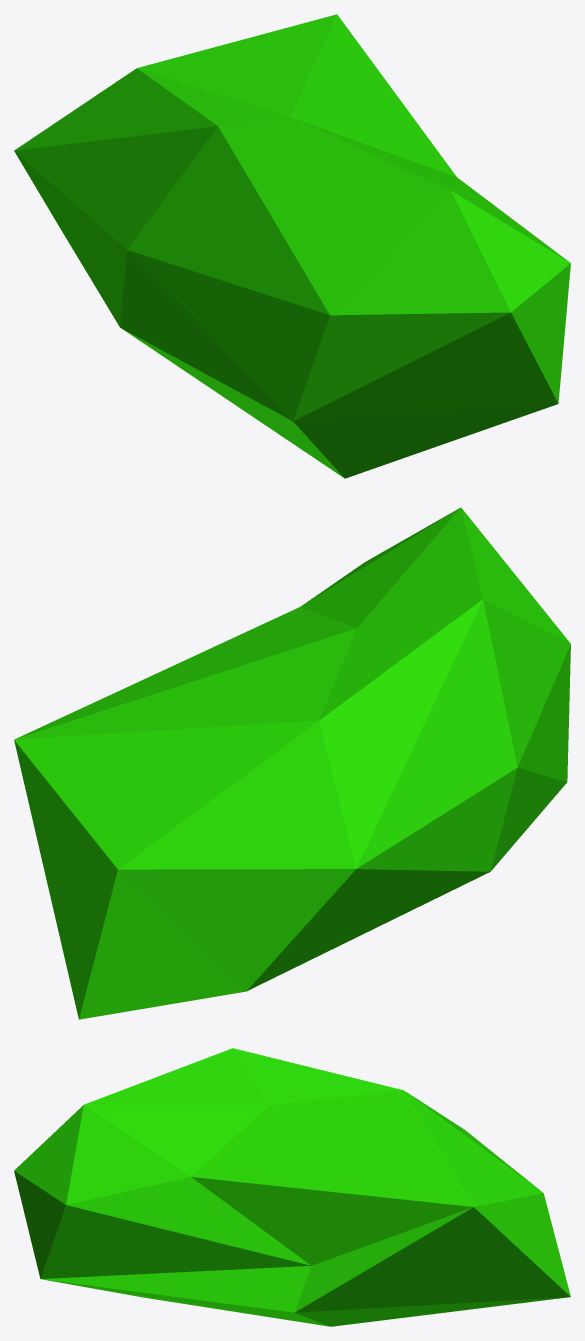
Rendered from Bush#1.fbx.
3 views of the same model, one above another, from view 1: azimuth 30°, elevation 25°; view 2: azimuth 150°, elevation 25°; view 3: azimuth 270°, elevation 25° (orthographic). The views are drawn at different scales.
Parts seen in each view (by area): view 1: Bush#1; view 2: Bush#1; view 3: Bush#1.
Boxes of the visible parts, x1=… form: Bush#1: x1=14, y1=14, x2=570, y2=478; Bush#1: x1=14, y1=507, x2=570, y2=1019; Bush#1: x1=14, y1=1048, x2=570, y2=1326.
Bounding box in the file's own units: 154 × 136 × 299.
